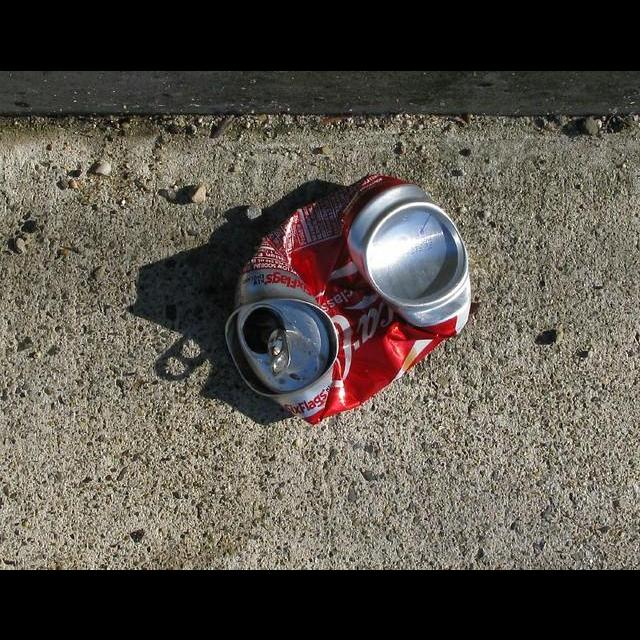aba de lata: (268, 326, 292, 376)
lata: (224, 174, 472, 426)
